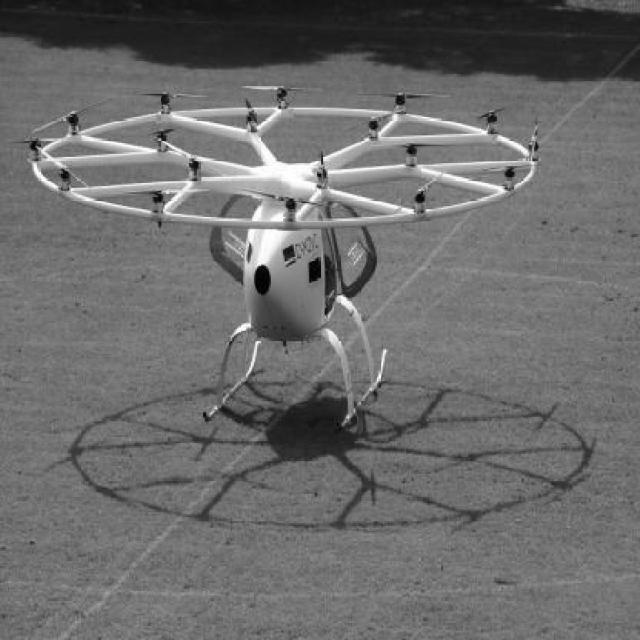helikopter: (17, 29, 548, 474)
